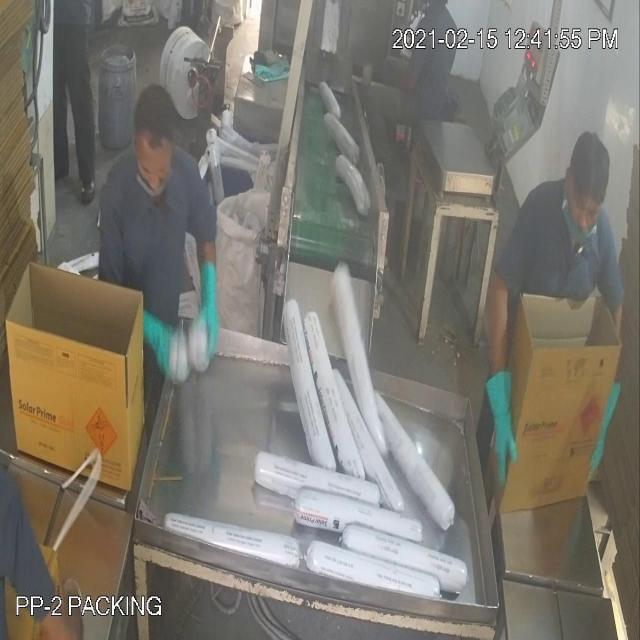Gloves: (44, 103, 503, 427)
